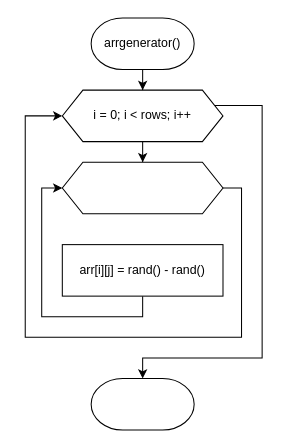
Image size: 288x448. Some labels were removed from this diagram. The centre of each missing label's shape, as x and y in pixels:
"j = 0; j < collumns; j++" goes at pixel 142 187.
"конец" goes at pixel 142 403.
